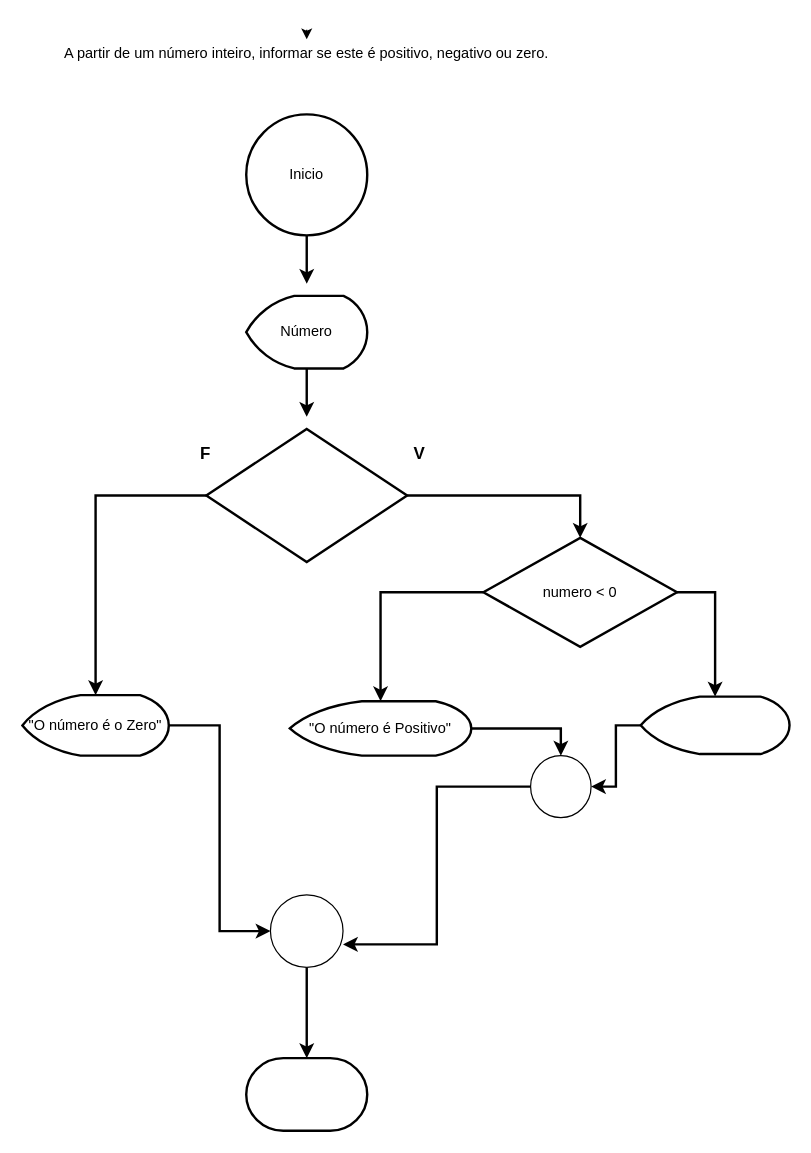
Some shapes in this 811 by 1153 pixel diagram are drawn without their labels. The centre of each missing label's shape, as x and y in pixels:
"O número é negativo": pixel 714 725
Fim: pixel 306 1093
numero != 0: pixel 306 495
